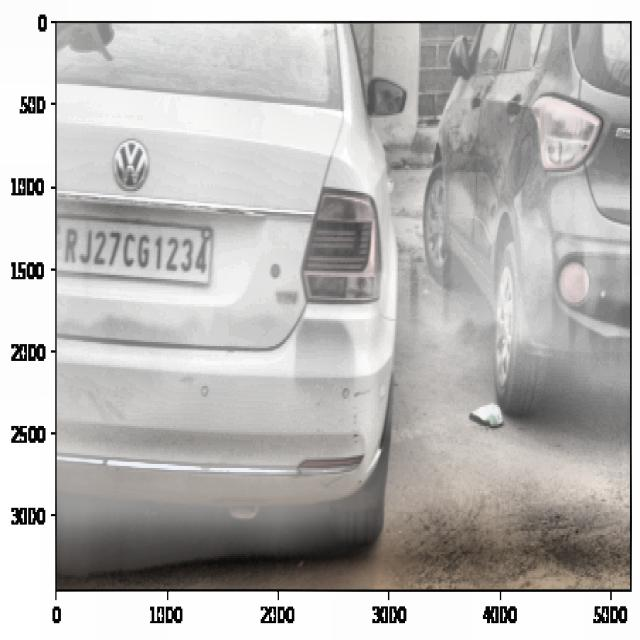license_plate: (57, 216, 212, 280)
